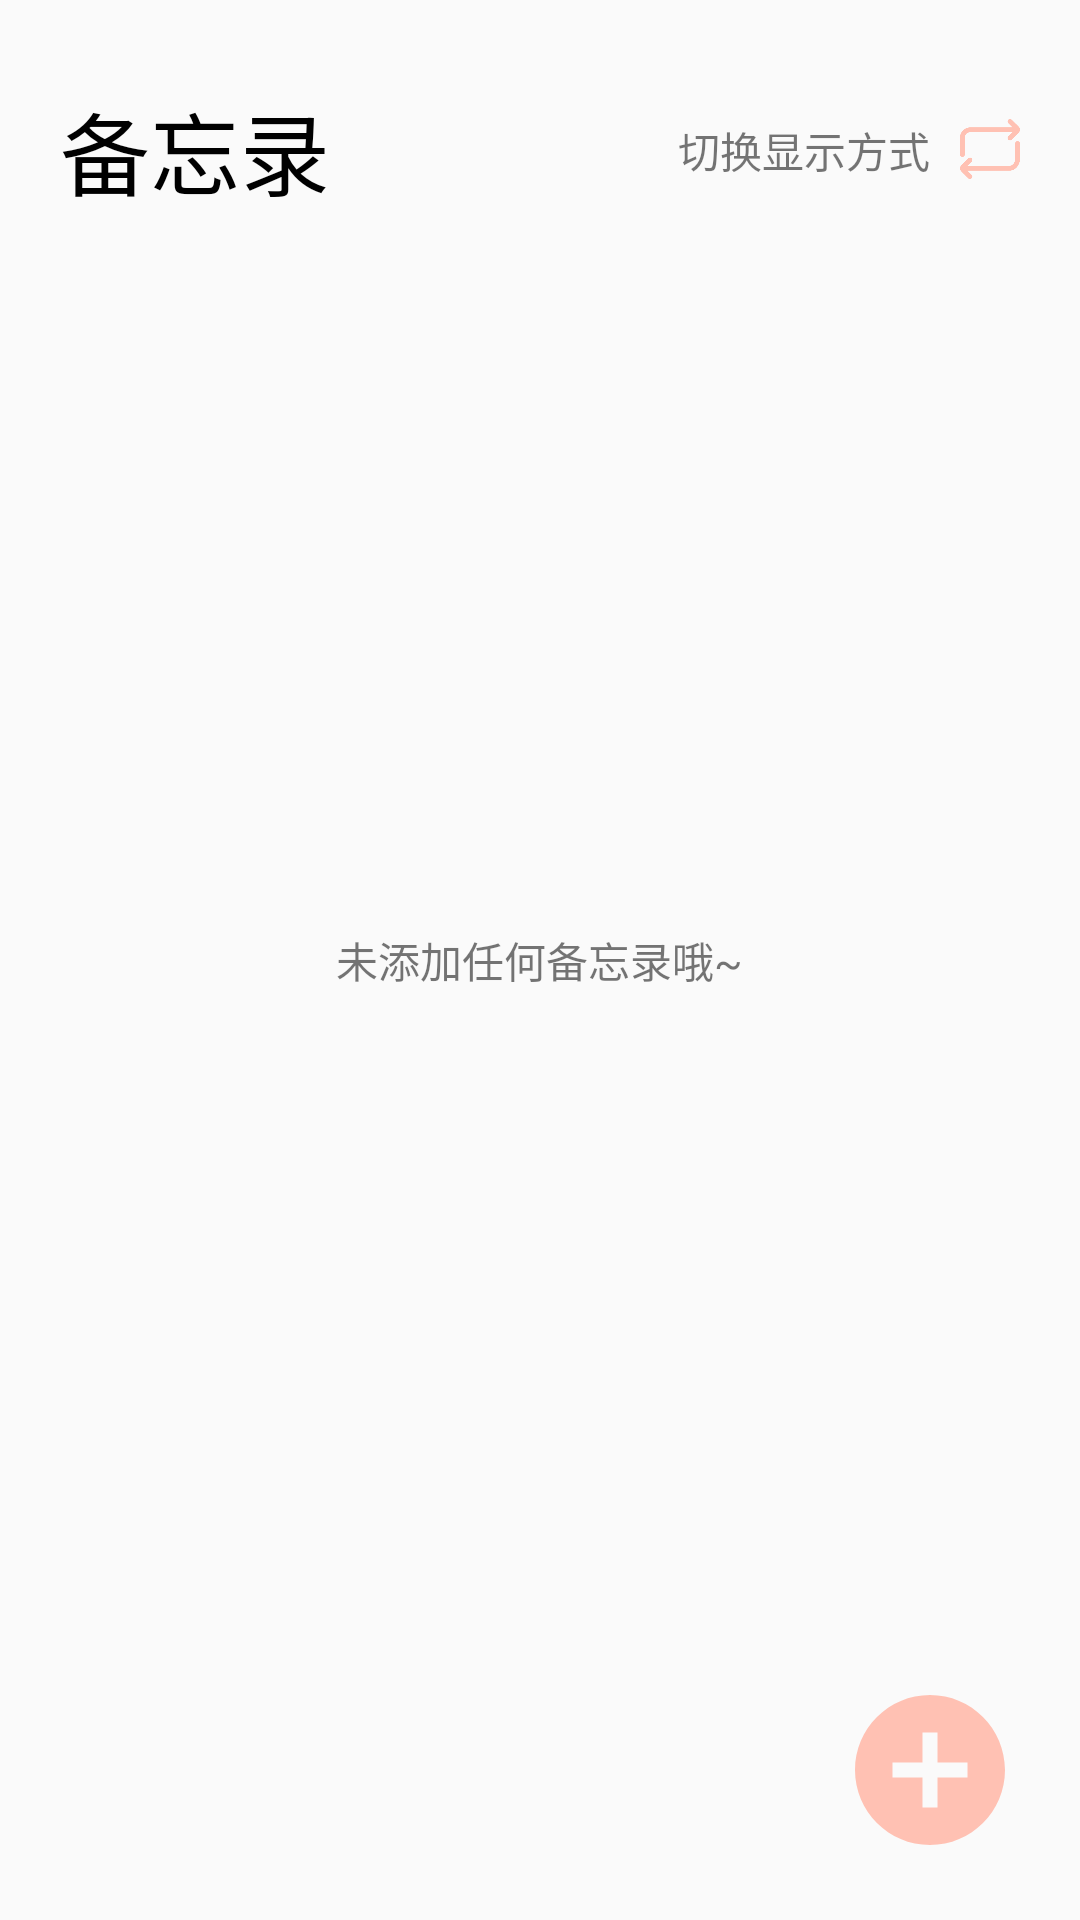

Point at icon controls on the screen. Image size 1080px×1920px, points as (x,y).
add circle: (930,1770)
convert: (990,149)
